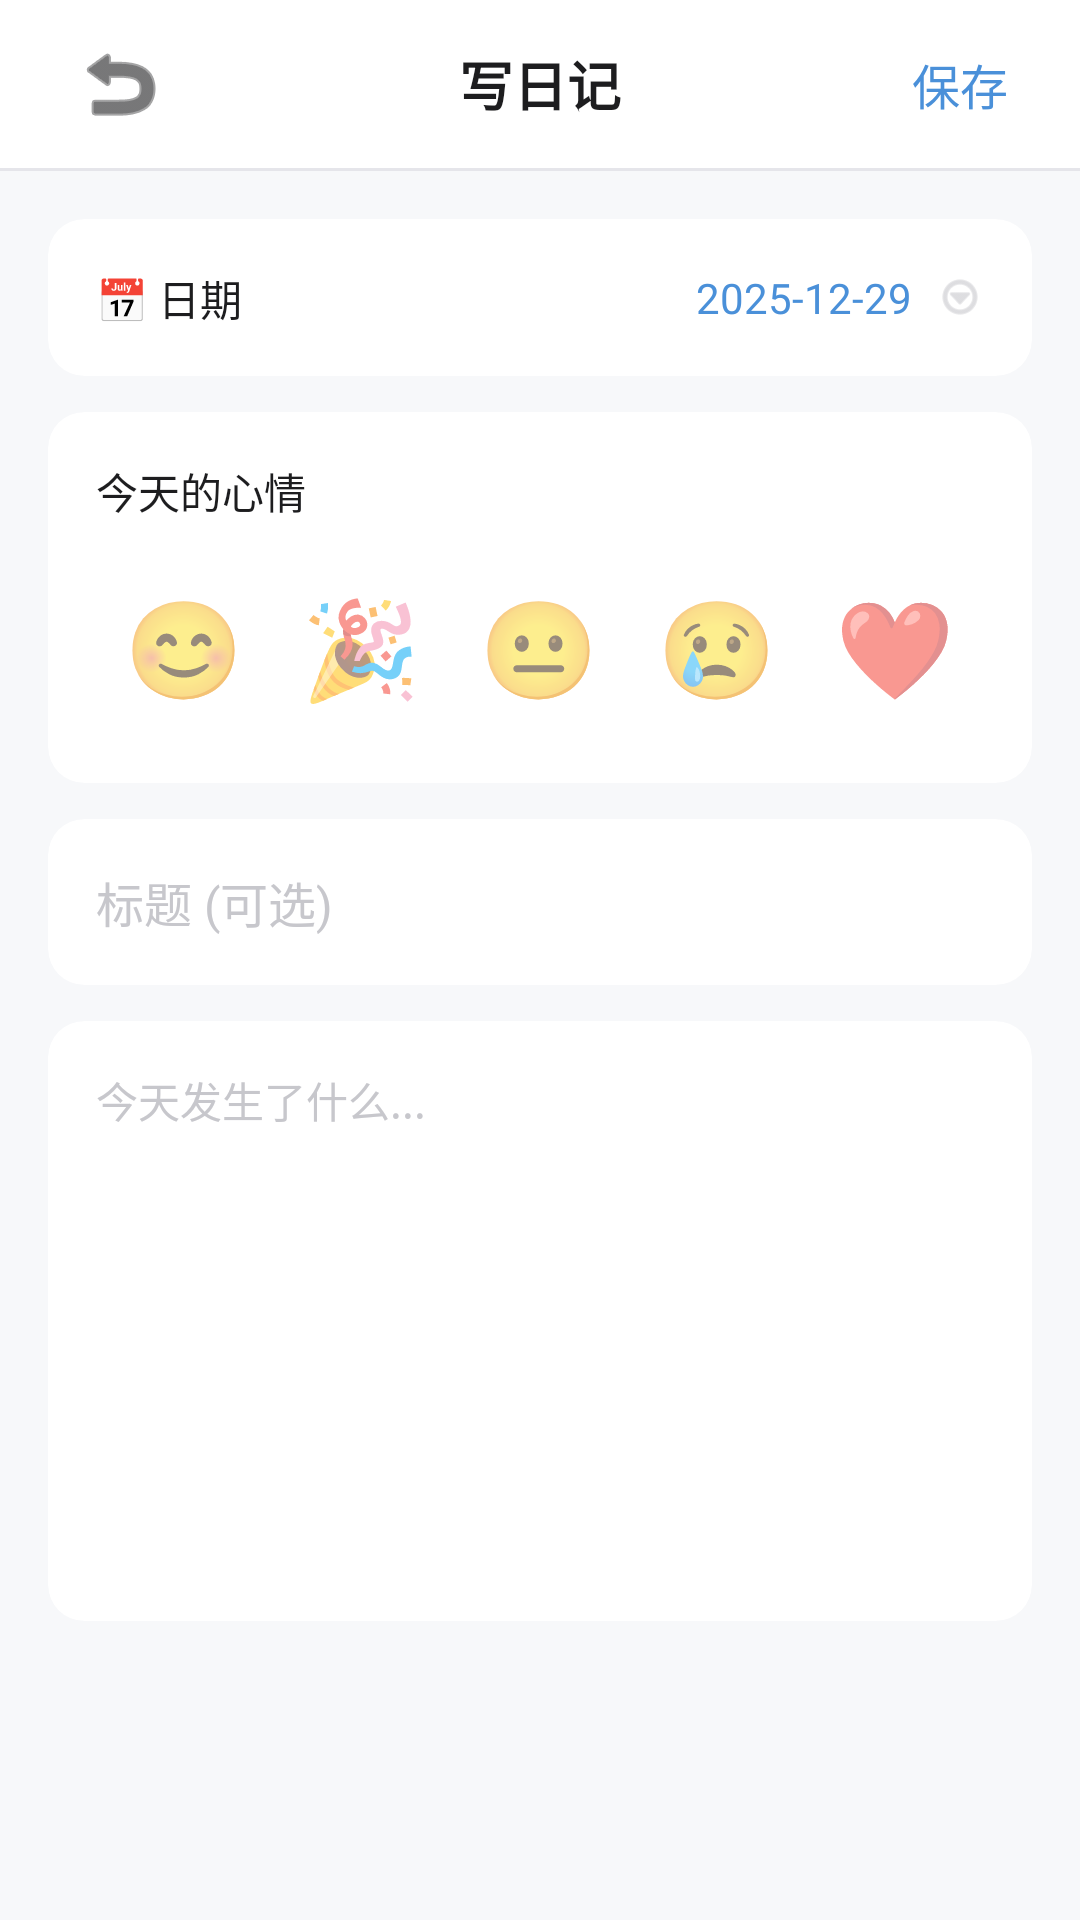

Locate icon controls on the screen. Image size 1080x1920, boxes as (x1, y1, x2, y2).
revert: (87, 53, 156, 116)
